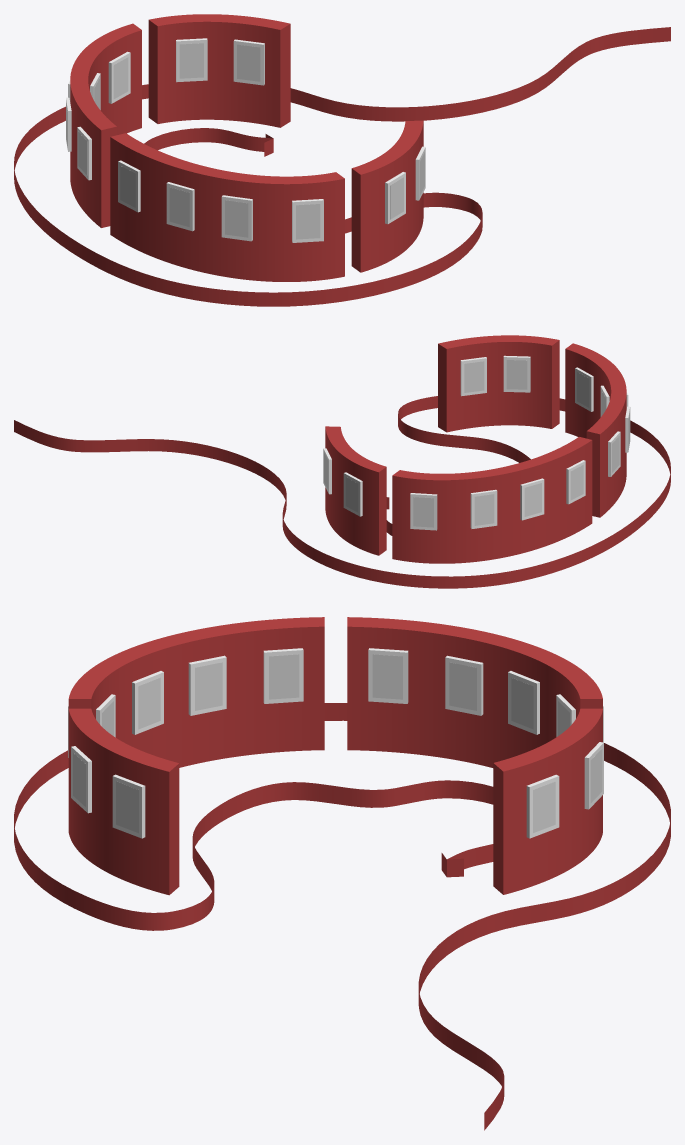
The model's file is mod1.obj.
3 views of the same model, one above another, from view 1: azimuth 30°, elevation 25°; view 2: azimuth 150°, elevation 25°; view 3: azimuth 270°, elevation 25° (orthographic). The views are drawn at different scales.
Parts seen in each view (by area): view 1: Obj_000012, Obj_000002, Obj_000014, Obj_000013, Obj_000015, Obj_000022, Obj_000043, Obj_000046, Obj_000006, Obj_000050, Obj_000051, Obj_000047 (+9 smaller); view 2: Obj_000013, Obj_000002, Obj_000015, Obj_000012, Obj_000014, Obj_000018, Obj_000027, Obj_000021, Obj_000030, Obj_000034, Obj_000031, Obj_000019 (+8 smaller); view 3: Obj_000012, Obj_000013, Obj_000002, Obj_000015, Obj_000014, Obj_000057, Obj_000041, Obj_000037, Obj_000053, Obj_000049, Obj_000033, Obj_000010 (+9 smaller).
Part boxes in pixels (<box>): Obj_000012: <box>110,133,344,281</box>; Obj_000002: <box>14,27,670,306</box>; Obj_000014: <box>148,14,290,127</box>; Obj_000013: <box>70,23,141,227</box>; Obj_000015: <box>351,120,423,272</box>; Obj_000022: <box>179,43,203,78</box>; Obj_000043: <box>296,204,320,239</box>; Obj_000046: <box>225,200,248,237</box>; Obj_000006: <box>237,44,260,81</box>; Obj_000050: <box>169,187,189,226</box>; Obj_000051: <box>166,182,194,231</box>; Obj_000047: <box>221,195,252,241</box>; Obj_000013: <box>392,437,592,563</box>; Obj_000002: <box>14,396,670,588</box>; Obj_000015: <box>438,335,559,432</box>; Obj_000012: <box>565,343,626,517</box>; Obj_000014: <box>325,426,386,555</box>; Obj_000018: <box>506,360,527,389</box>; Obj_000027: <box>413,497,433,527</box>; Obj_000021: <box>464,361,484,392</box>; Obj_000030: <box>474,494,494,525</box>; Obj_000034: <box>524,483,541,516</box>; Obj_000031: <box>470,489,497,528</box>; Obj_000019: <box>503,355,530,392</box>; Obj_000012: <box>68,617,324,767</box>; Obj_000013: <box>347,617,602,767</box>; Obj_000002: <box>14,703,670,1130</box>; Obj_000015: <box>68,708,179,895</box>; Obj_000014: <box>493,708,602,894</box>; Obj_000057: <box>269,654,299,699</box>; Obj_000041: <box>372,654,402,699</box>; Obj_000037: <box>449,662,476,710</box>; Obj_000053: <box>195,662,222,710</box>; Obj_000049: <box>138,677,160,729</box>; Obj_000033: <box>511,677,533,729</box>; Obj_000010: <box>116,781,138,833</box>.
Bounding box in the file's own units: 17095 × 2524 × 11575.
